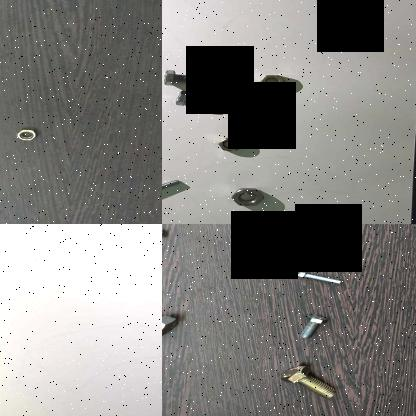Bolts: (278, 361, 340, 401), (173, 89, 229, 113), (162, 64, 212, 89), (237, 224, 299, 243), (294, 313, 330, 341), (288, 268, 344, 284), (162, 304, 181, 342), (162, 177, 181, 201), (162, 224, 180, 240)
NUTS: (225, 186, 273, 210), (256, 70, 292, 93), (216, 136, 245, 154), (15, 127, 42, 143)
